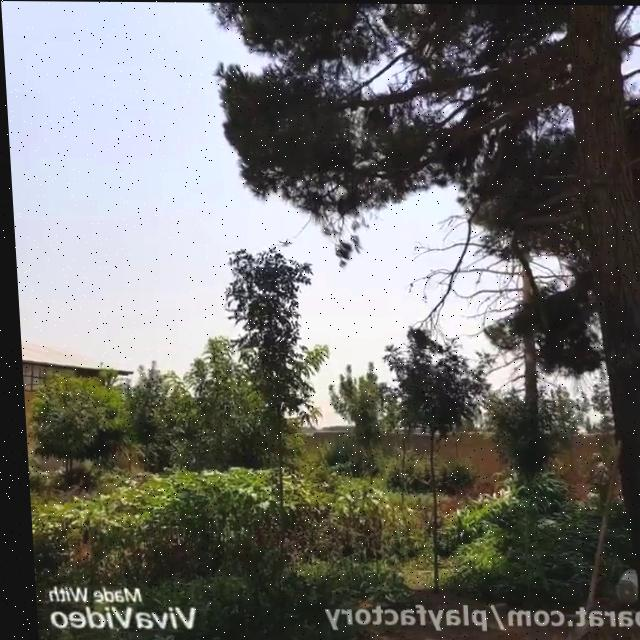drone: (275, 234, 295, 248)
